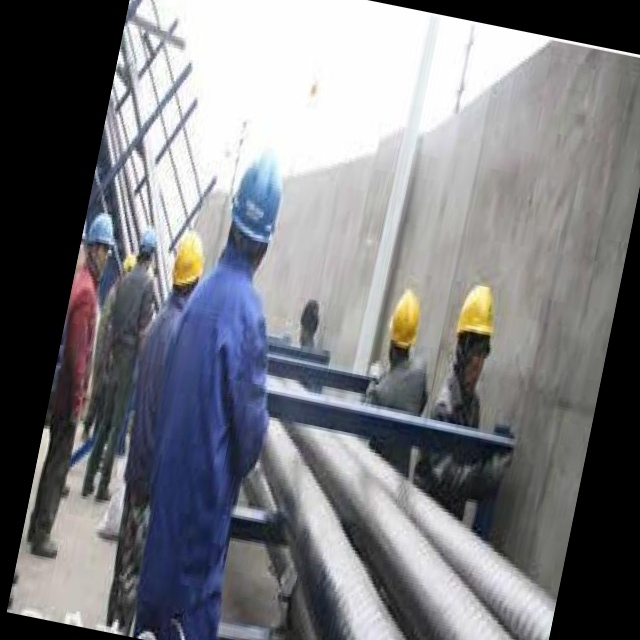Sin_Casco_Mascarrilla: (445, 281, 503, 385)
